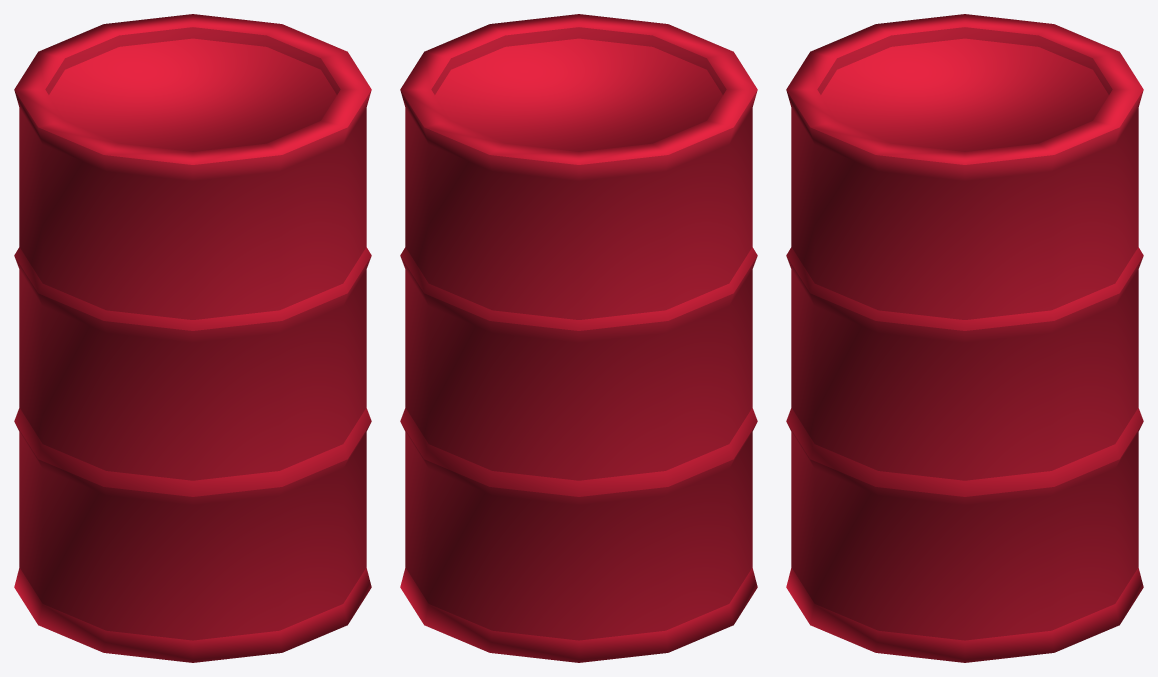
Rendered from RedBarrel.fbx.
3 renders of one model, left to right at view 1: azimuth 30°, elevation 25°; view 2: azimuth 150°, elevation 25°; view 3: azimuth 270°, elevation 25°, orthographic.
Visible parts, largest first — view 1: RedBarrel; view 2: RedBarrel; view 3: RedBarrel.
Boxes of the visible parts, bbox=[...] form: RedBarrel: bbox=[14, 14, 371, 662]; RedBarrel: bbox=[400, 14, 757, 662]; RedBarrel: bbox=[786, 14, 1143, 662].
Bounding box in the file's own units: 1.19 × 1.19 × 1.84.
